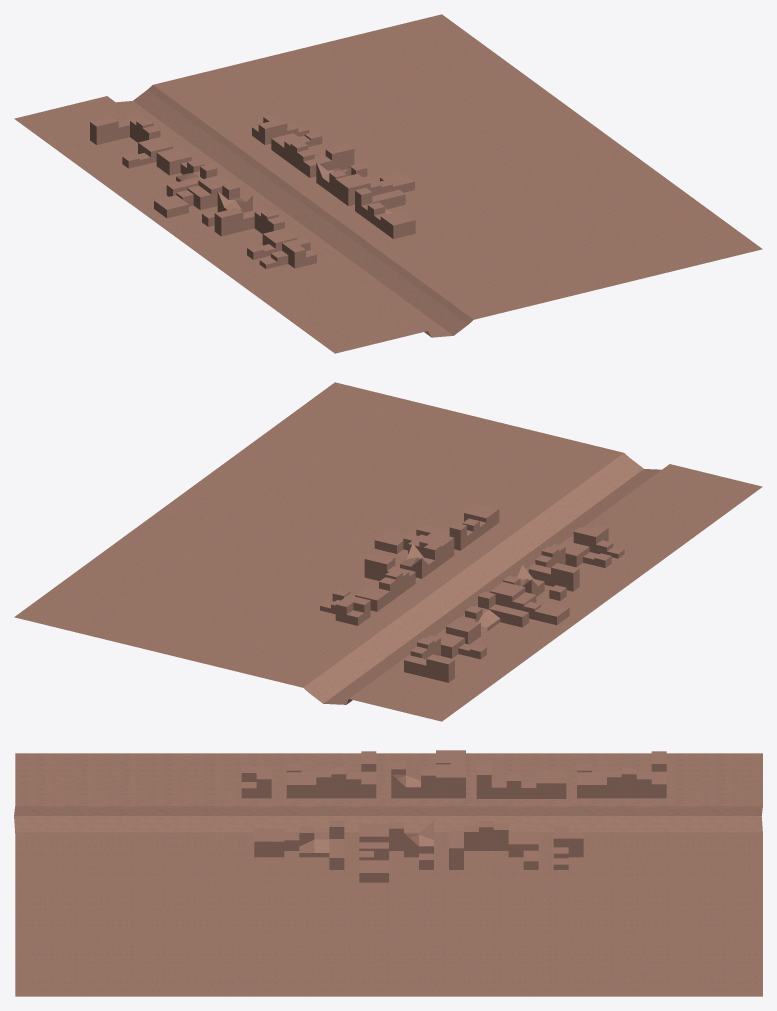
The model's file is ground.fbx.
The picture shows the model from 3 angles, top to bottom: view 1: azimuth 30°, elevation 25°; view 2: azimuth 150°, elevation 25°; view 3: azimuth 270°, elevation 25°; orthographic projection. The views are drawn at different scales.
Visible parts, largest first — view 1: polySurface1, polySurface8, polySurface12, polySurface10, polySurface5, polySurface3, polySurface2, polySurface7, polySurface11, polySurface6; view 2: polySurface1, polySurface12, polySurface10, polySurface3, polySurface8, polySurface5, polySurface7, polySurface2, polySurface6, polySurface11; view 3: polySurface1, polySurface3, polySurface10, polySurface12, polySurface5, polySurface2, polySurface8, polySurface7, polySurface6, polySurface11.
Part boxes in pixels (x1,y1,x2,y2): polySurface1: (14, 14, 762, 353); polySurface8: (154, 175, 252, 218); polySurface12: (90, 116, 172, 168); polySurface10: (214, 208, 297, 259); polySurface5: (271, 131, 354, 177); polySurface3: (316, 162, 414, 206); polySurface2: (355, 187, 415, 238); polySurface7: (156, 147, 217, 196); polySurface11: (259, 237, 316, 269); polySurface6: (252, 114, 309, 144); polySurface1: (14, 382, 762, 721); polySurface12: (404, 632, 486, 682); polySurface10: (528, 541, 611, 591); polySurface3: (374, 530, 454, 578); polySurface8: (490, 565, 569, 625); polySurface5: (332, 554, 415, 611); polySurface7: (446, 591, 528, 644); polySurface2: (416, 503, 499, 550); polySurface6: (320, 595, 370, 625); polySurface11: (573, 525, 624, 558); polySurface1: (14, 753, 762, 996); polySurface3: (359, 820, 433, 882); polySurface10: (286, 751, 376, 798); polySurface12: (577, 751, 666, 798); polySurface5: (449, 821, 538, 869); polySurface2: (254, 820, 344, 869); polySurface8: (391, 750, 465, 798); polySurface7: (476, 761, 566, 798); polySurface6: (553, 826, 583, 869); polySurface11: (241, 766, 271, 798).
Bounding box in the file's own units: 15385 × 1103 × 20021.
Materials: 2 (2 with a texture image).
